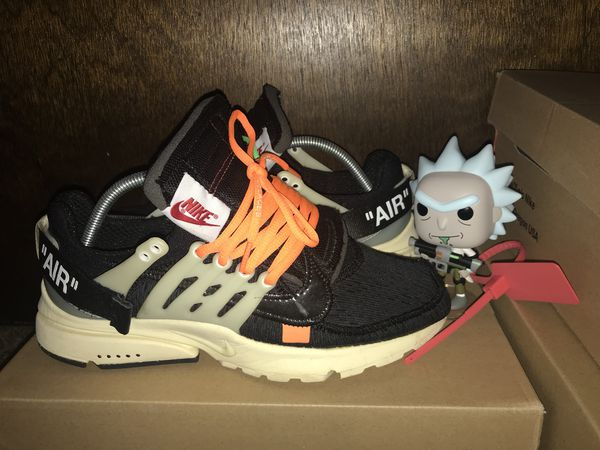Nike x OFF--WHITE Air Presto OG: (20, 86, 504, 396)
